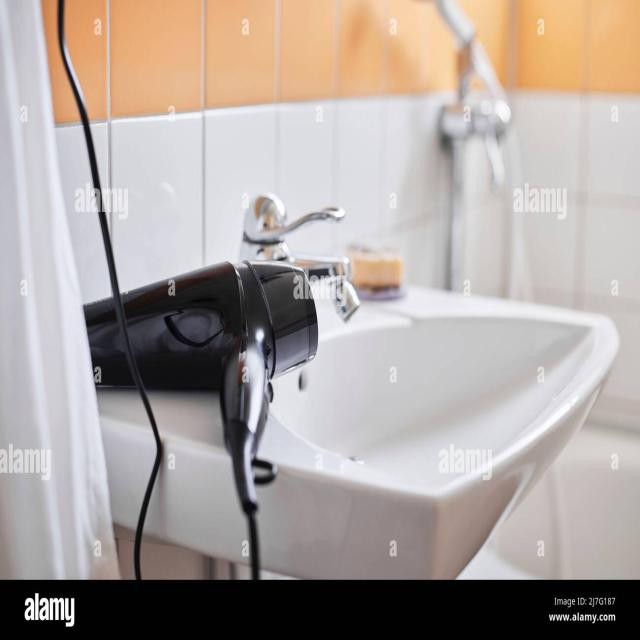dryer: (46, 221, 332, 579)
